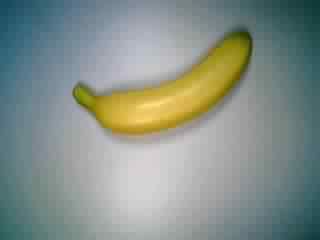banana: (72, 26, 254, 140)
